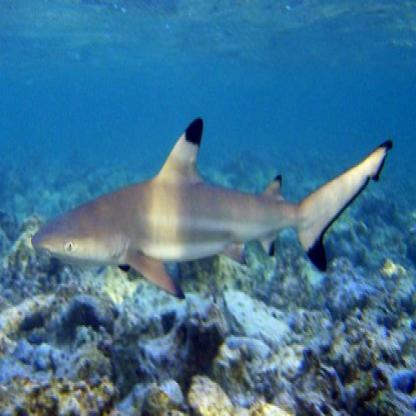Shark -Selachimorpha-: (33, 116, 393, 295)
